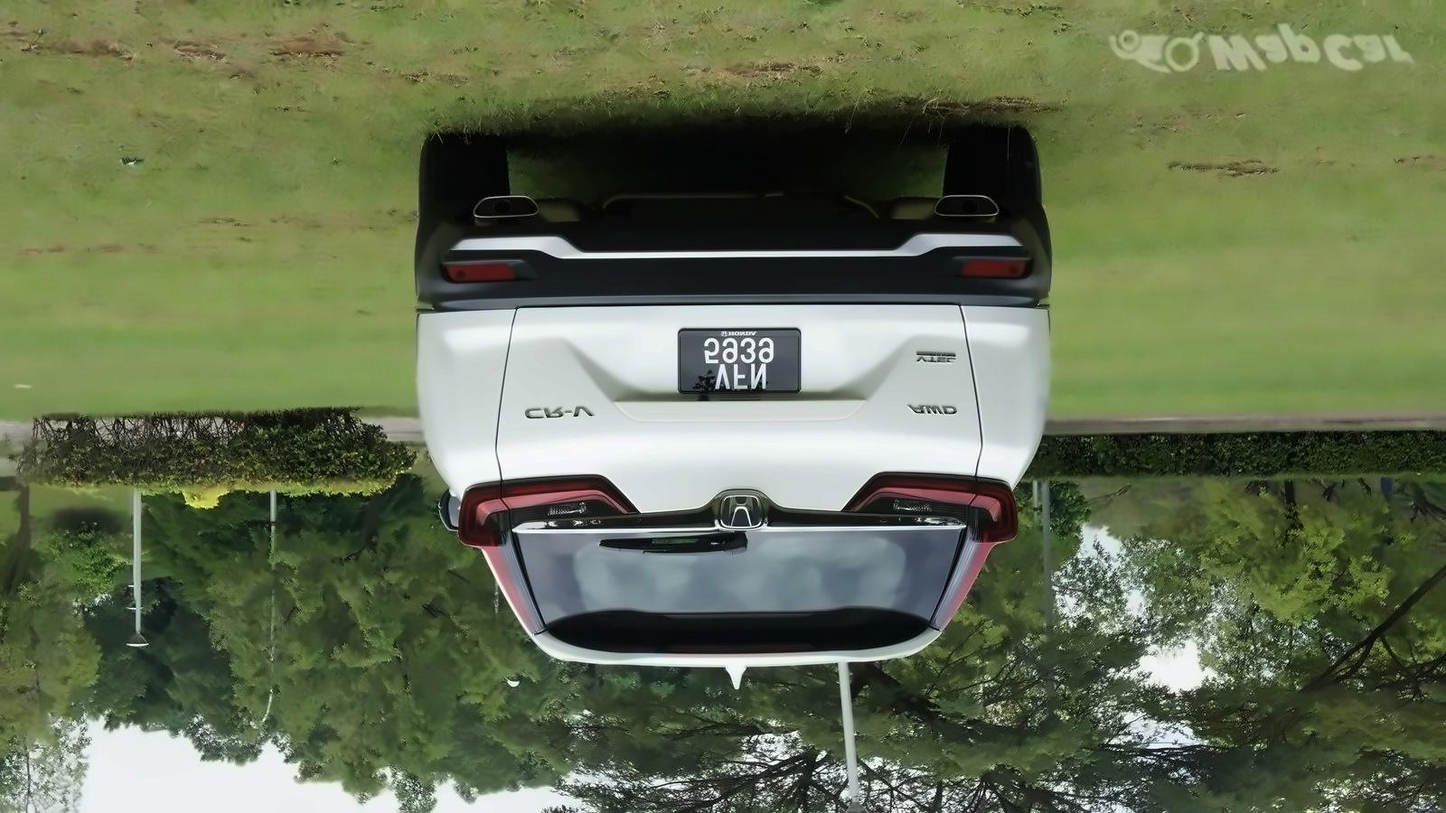Car boot: (495, 299, 991, 646)
Rear bumper: (402, 197, 1060, 426)
Rear light - -L-: (841, 464, 1026, 639)
Rear light - -R-: (455, 465, 642, 639)
